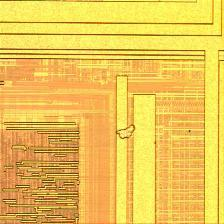BLOCK ETCH: (115, 121, 138, 144)
